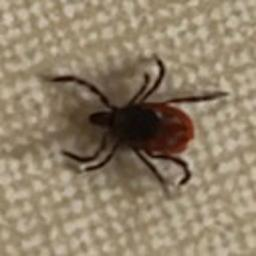Ixodes scapularis: (50, 54, 231, 198)
